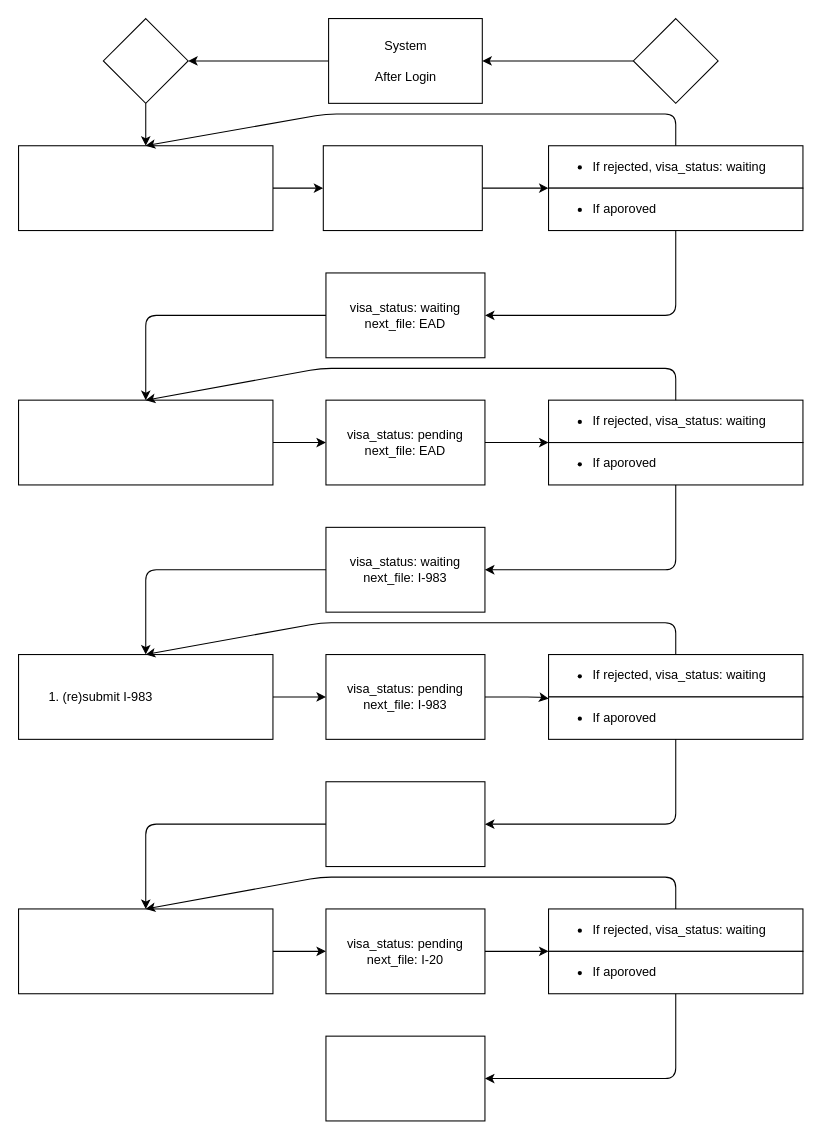
The diagram is 821 pixels wide and 1139 high, and some of its shapes have lost their labels. Here are the shapes that lost their labels. From the top down, the centre of each, then its label:
the point at 145,60: Employee
the point at 675,60: HR
the point at 145,188: filling basic info submit profile/dl (optional) (re)submit receipt (if OPT)
the point at 402,188: visa_status: pending next_file: receipt (as it has not been approved)
the point at 145,442: (re)submit EAD card
the point at 405,824: visa_status: waiting next_file: I-20
the point at 145,951: (re)submit I-20
the point at 405,1078: visa_status: approved next_file: done
